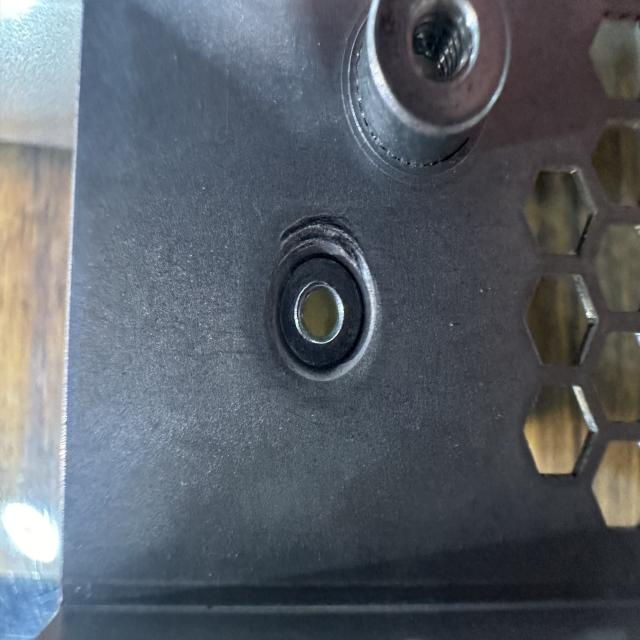Missing screw: (259, 240, 392, 394)
